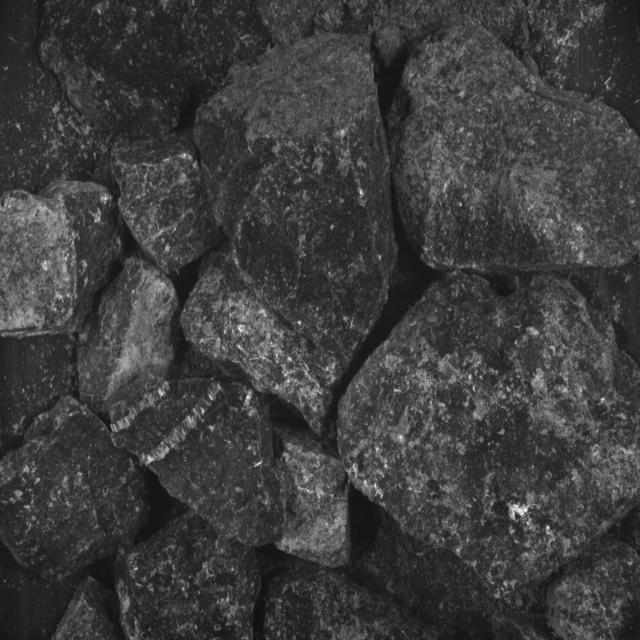Stones: (339, 273, 640, 596), (195, 36, 397, 376), (390, 17, 640, 275), (182, 248, 344, 434), (109, 376, 285, 547), (1, 398, 150, 582), (1, 181, 122, 336), (116, 512, 261, 640), (79, 257, 180, 414), (112, 131, 222, 275), (265, 566, 427, 640), (275, 428, 351, 567), (549, 539, 640, 640), (54, 575, 124, 640)
